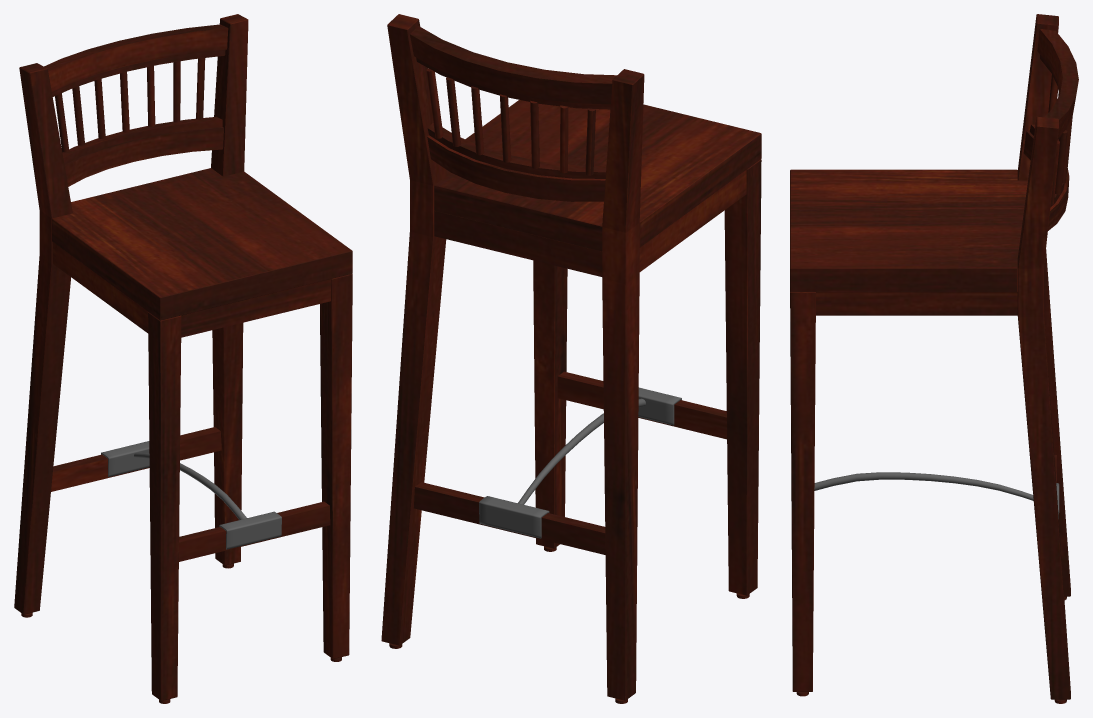
File: bar_chair.obj
3 views of the same model, side by side, from view 1: azimuth 30°, elevation 25°; view 2: azimuth 150°, elevation 25°; view 3: azimuth 270°, elevation 25° (orthographic). The views are drawn at different scales.
Parts seen in each view (by area): view 1: wood_stool_Cube.001, stool_support_Cube.005, stool_link_Cube.002; view 2: wood_stool_Cube.001, stool_support_Cube.005, stool_link_Cube.002; view 3: wood_stool_Cube.001, stool_support_Cube.005, stool_link_Cube.002.
Part boxes in pixels (box(x1,y1,x2,y2)): wood_stool_Cube.001: box(14, 14, 352, 703); stool_support_Cube.005: box(44, 24, 228, 186); stool_link_Cube.002: box(101, 441, 281, 549); wood_stool_Cube.001: box(381, 14, 761, 703); stool_support_Cube.005: box(410, 26, 616, 201); stool_link_Cube.002: box(479, 387, 681, 538); wood_stool_Cube.001: box(790, 14, 1070, 703); stool_support_Cube.005: box(1023, 29, 1078, 230); stool_link_Cube.002: box(814, 472, 1059, 518).
Size of the model in its own units: 44.73 by 108 by 48.64.
